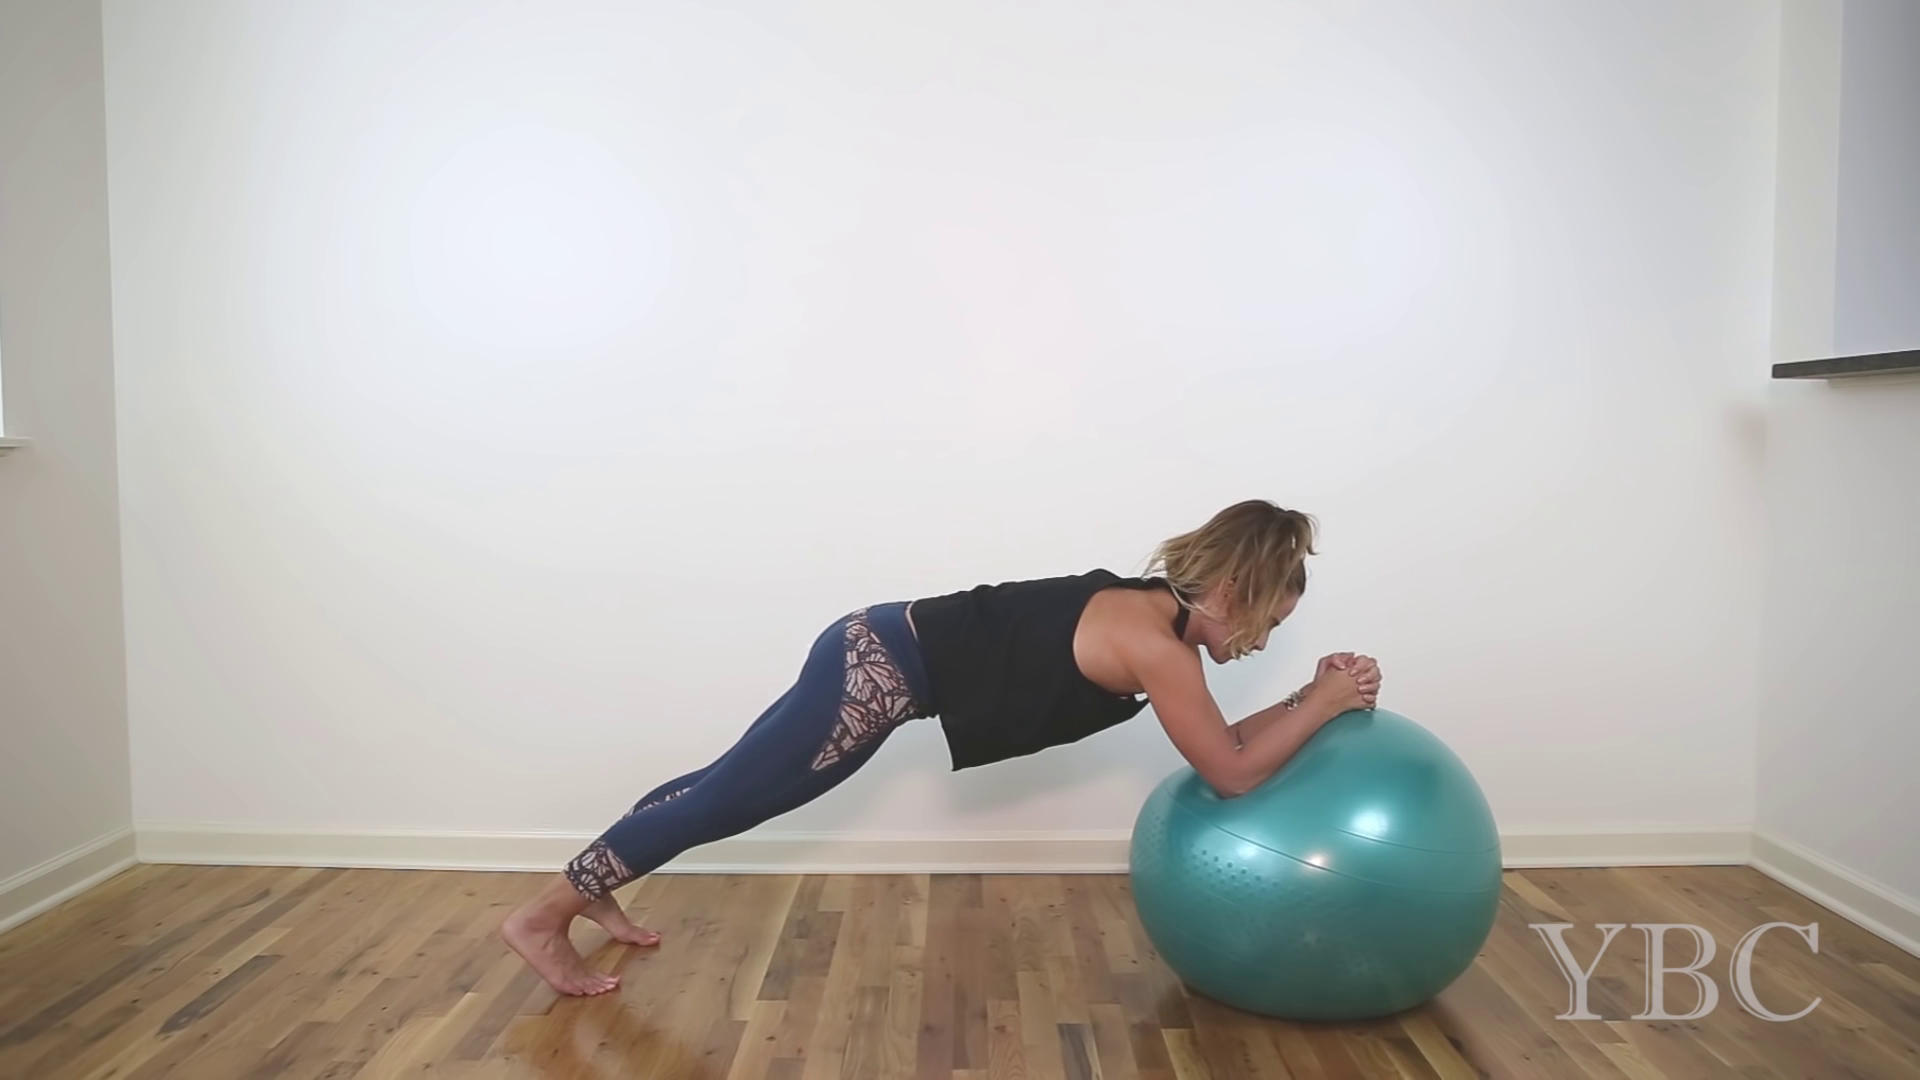yogaball: (1124, 700, 1515, 1036)
